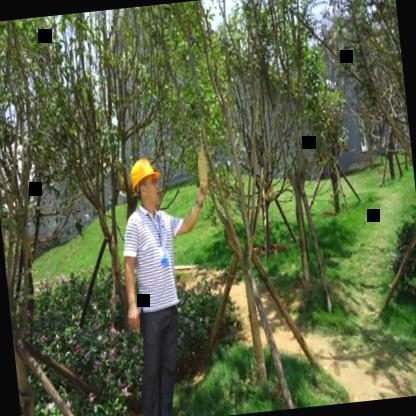helmet: (126, 152, 166, 214)
